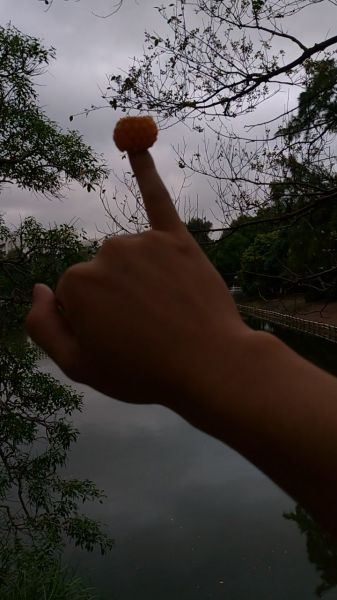eggs: (114, 118, 156, 150)
